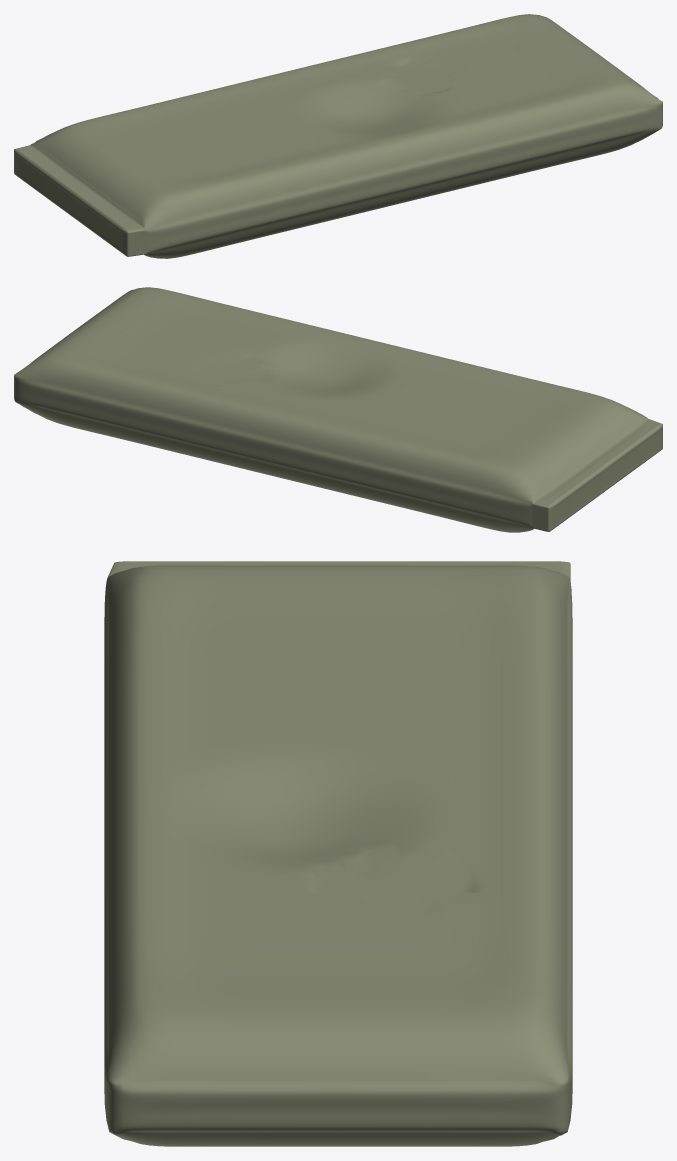
The model's file is mattress.fbx.
3 views of the same model, one above another, from view 1: azimuth 30°, elevation 25°; view 2: azimuth 150°, elevation 25°; view 3: azimuth 270°, elevation 25° (orthographic). The views are drawn at different scales.
Parts seen in each view (by area): view 1: Cube.001; view 2: Cube.001; view 3: Cube.001.
Part boxes in pixels (left/top/right/bottom): Cube.001: left=14, top=14, right=662, bottom=258; Cube.001: left=14, top=287, right=662, bottom=532; Cube.001: left=104, top=561, right=572, bottom=1146.
Size of the model in its own units: 821 by 94.57 by 310.
